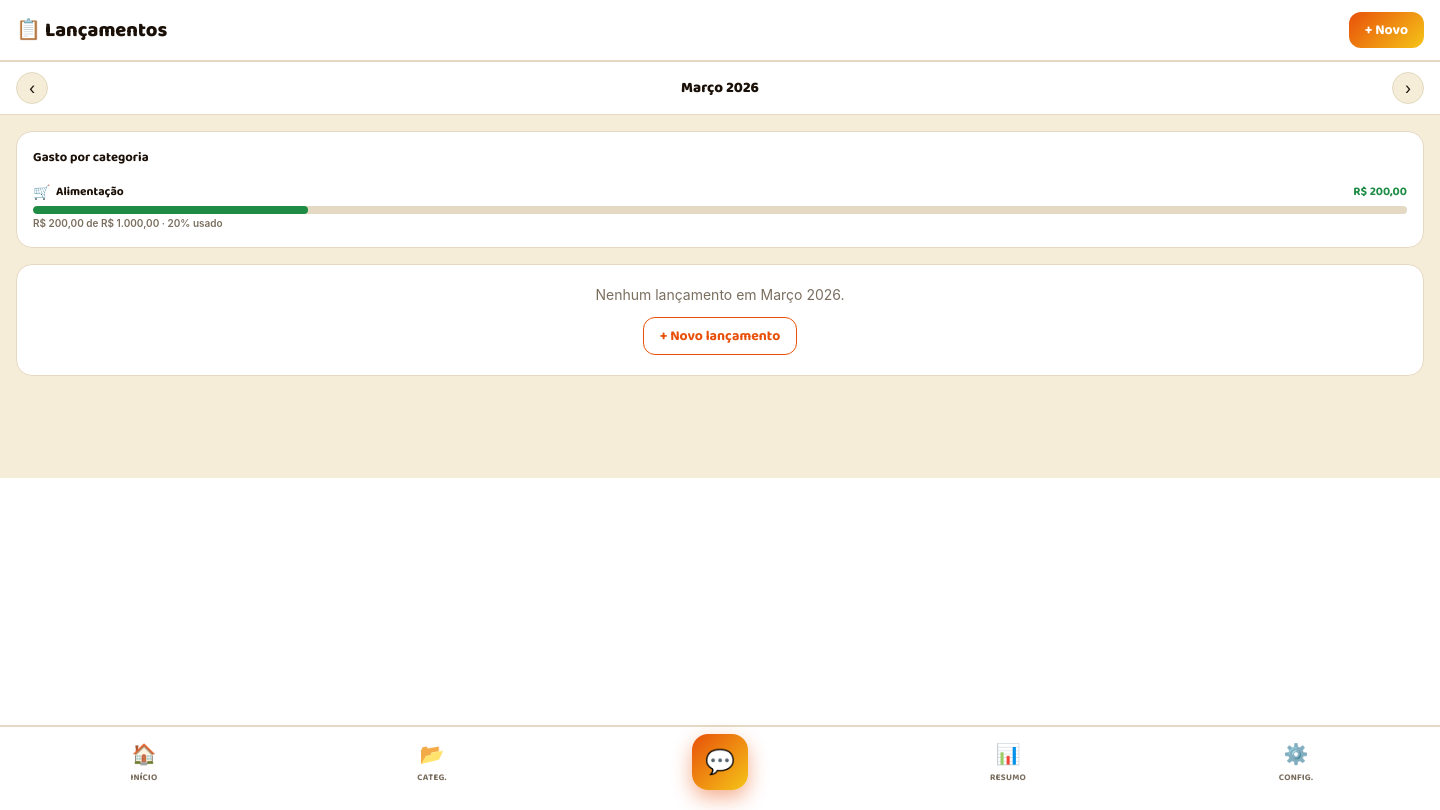
Test: Feature: Tela Lançamentos — Gerenciar transações › Scenario: Abrir modal de novo lançamento › abre modal ao clicar em + Novo e exibe campos descrição, valor e categoria
Click the button "+ Novo" at (1386, 30), box x1=1349 y1=12 x2=1424 y2=48
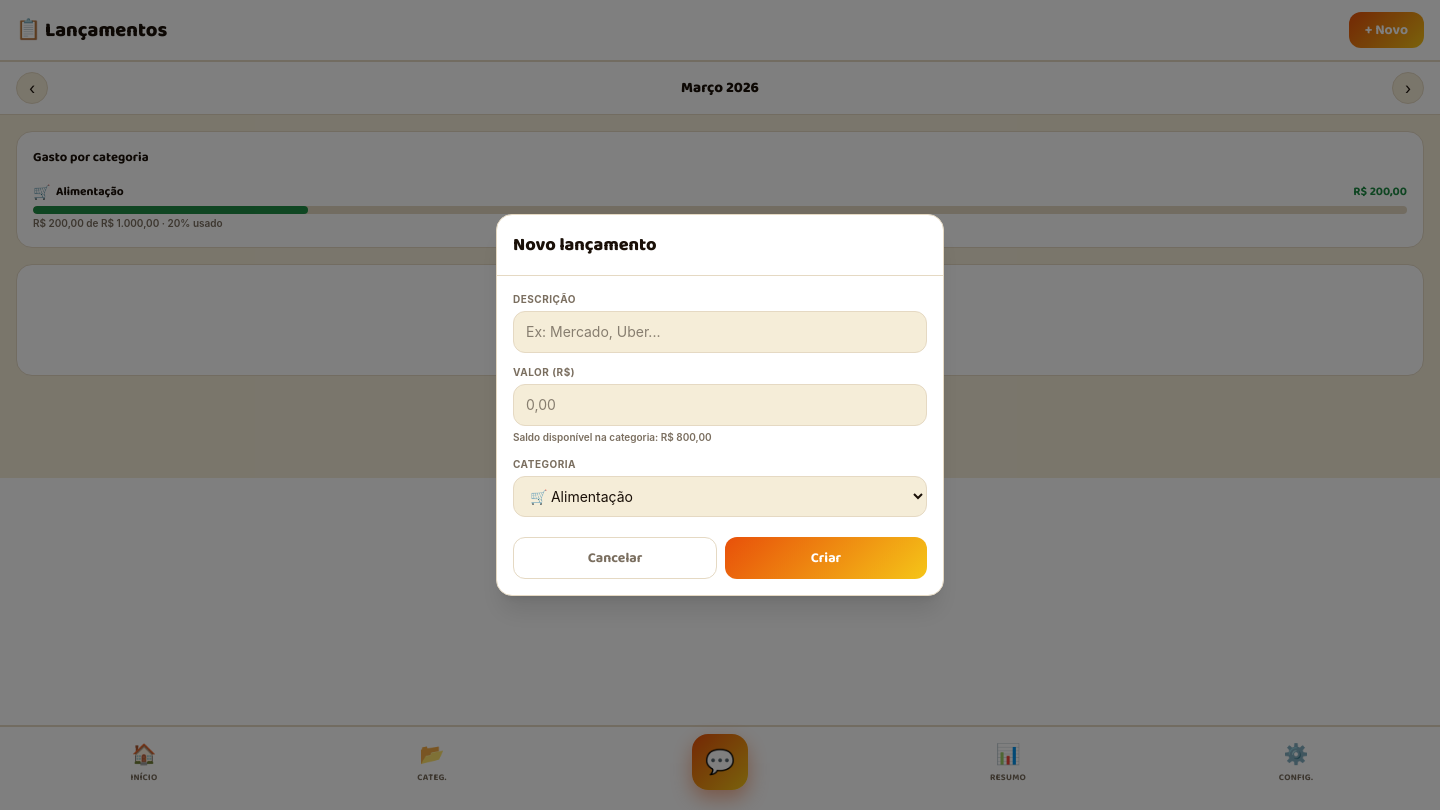
Expected: the text "Novo lançamento" is shown, x1=643 y1=316 x2=797 y2=354
Now the text "Descrição" is shown, box x1=513 y1=293 x2=576 y2=305
Now the text "Valor" is shown, box x1=513 y1=366 x2=575 y2=378
